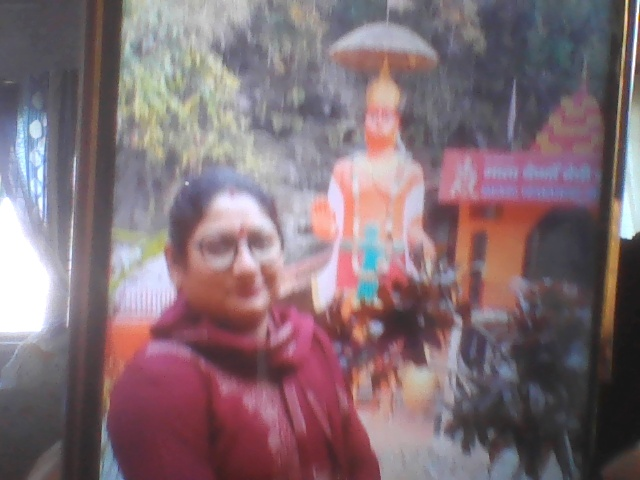fake: (167, 155, 301, 345)
